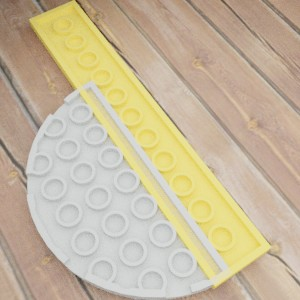lego: (28, 0, 271, 289), (26, 80, 232, 299)
